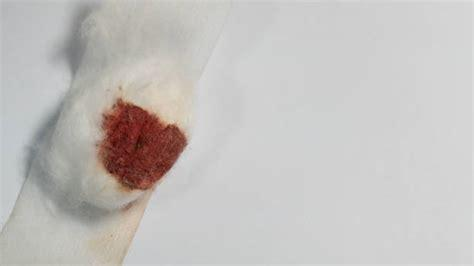cotton: (38, 56, 202, 213)
